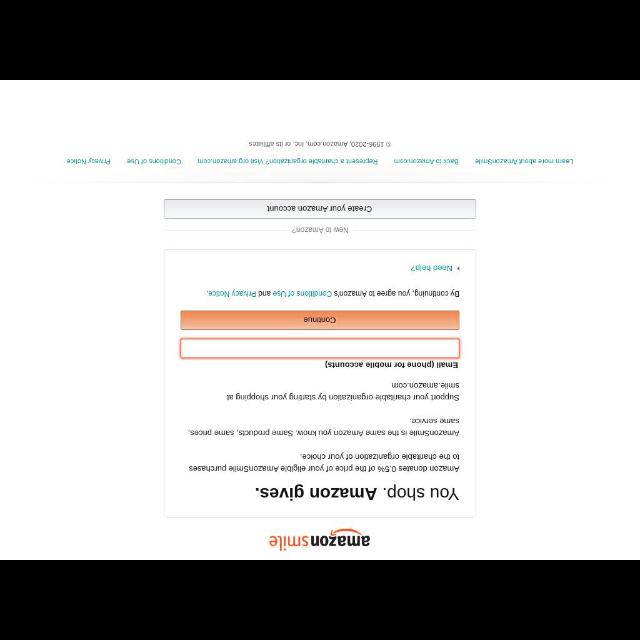icon: (457, 266, 459, 270)
image: (268, 528, 369, 550)
input: (181, 339, 459, 357)
text: (186, 382, 459, 472), (256, 483, 458, 501), (206, 288, 460, 298), (324, 359, 458, 369), (197, 158, 377, 165), (249, 140, 391, 148), (474, 158, 574, 166), (292, 226, 348, 234), (394, 158, 458, 165), (66, 157, 110, 165), (410, 263, 452, 271), (127, 159, 181, 165)
textbutton: (164, 200, 476, 218), (181, 311, 459, 329)
